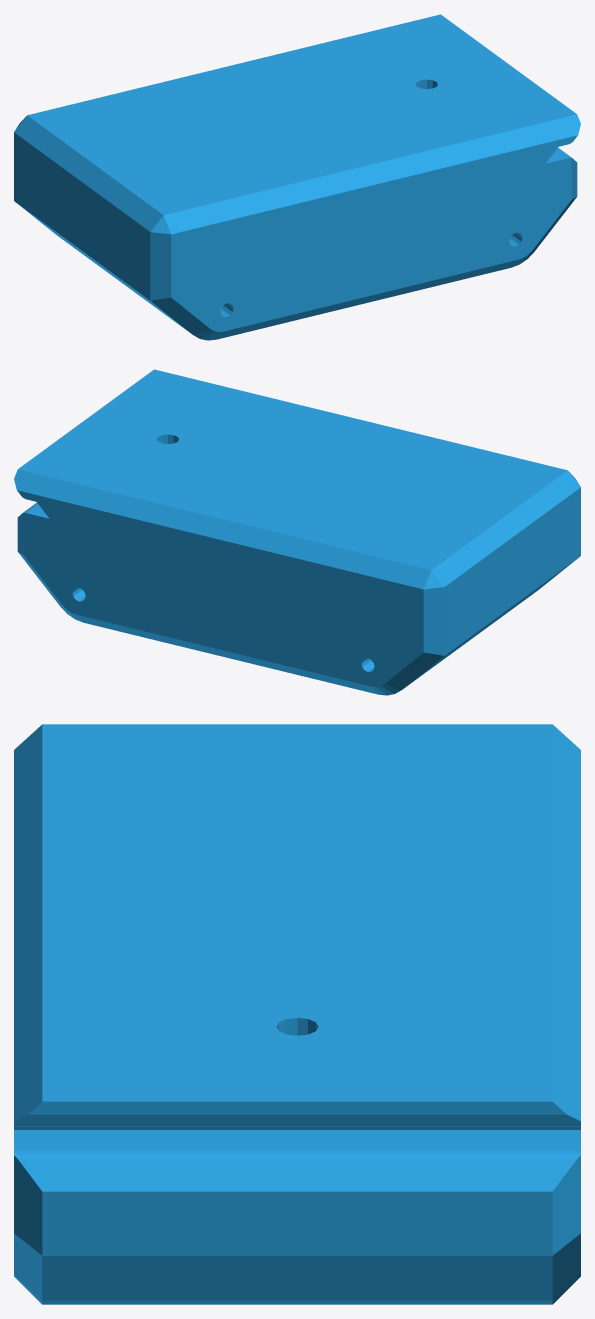
The model's file is robot_base.dae.
The picture shows the model from 3 angles, top to bottom: view 1: azimuth 30°, elevation 25°; view 2: azimuth 150°, elevation 25°; view 3: azimuth 270°, elevation 25°; orthographic projection. The views are drawn at different scales.
Visible parts, largest first — view 1: robot_base_test; view 2: robot_base_test; view 3: robot_base_test.
Boxes of the visible parts, bbox=[...] form: robot_base_test: bbox=[14, 14, 580, 340]; robot_base_test: bbox=[14, 369, 580, 695]; robot_base_test: bbox=[14, 724, 580, 1304].
Bounding box in the file's own units: 0.65 × 0.4 × 0.2.
